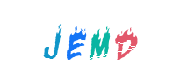D: (85, 0, 165, 80)
E: (45, 0, 125, 80)
J: (35, 0, 115, 80)
M: (49, 0, 129, 80)
